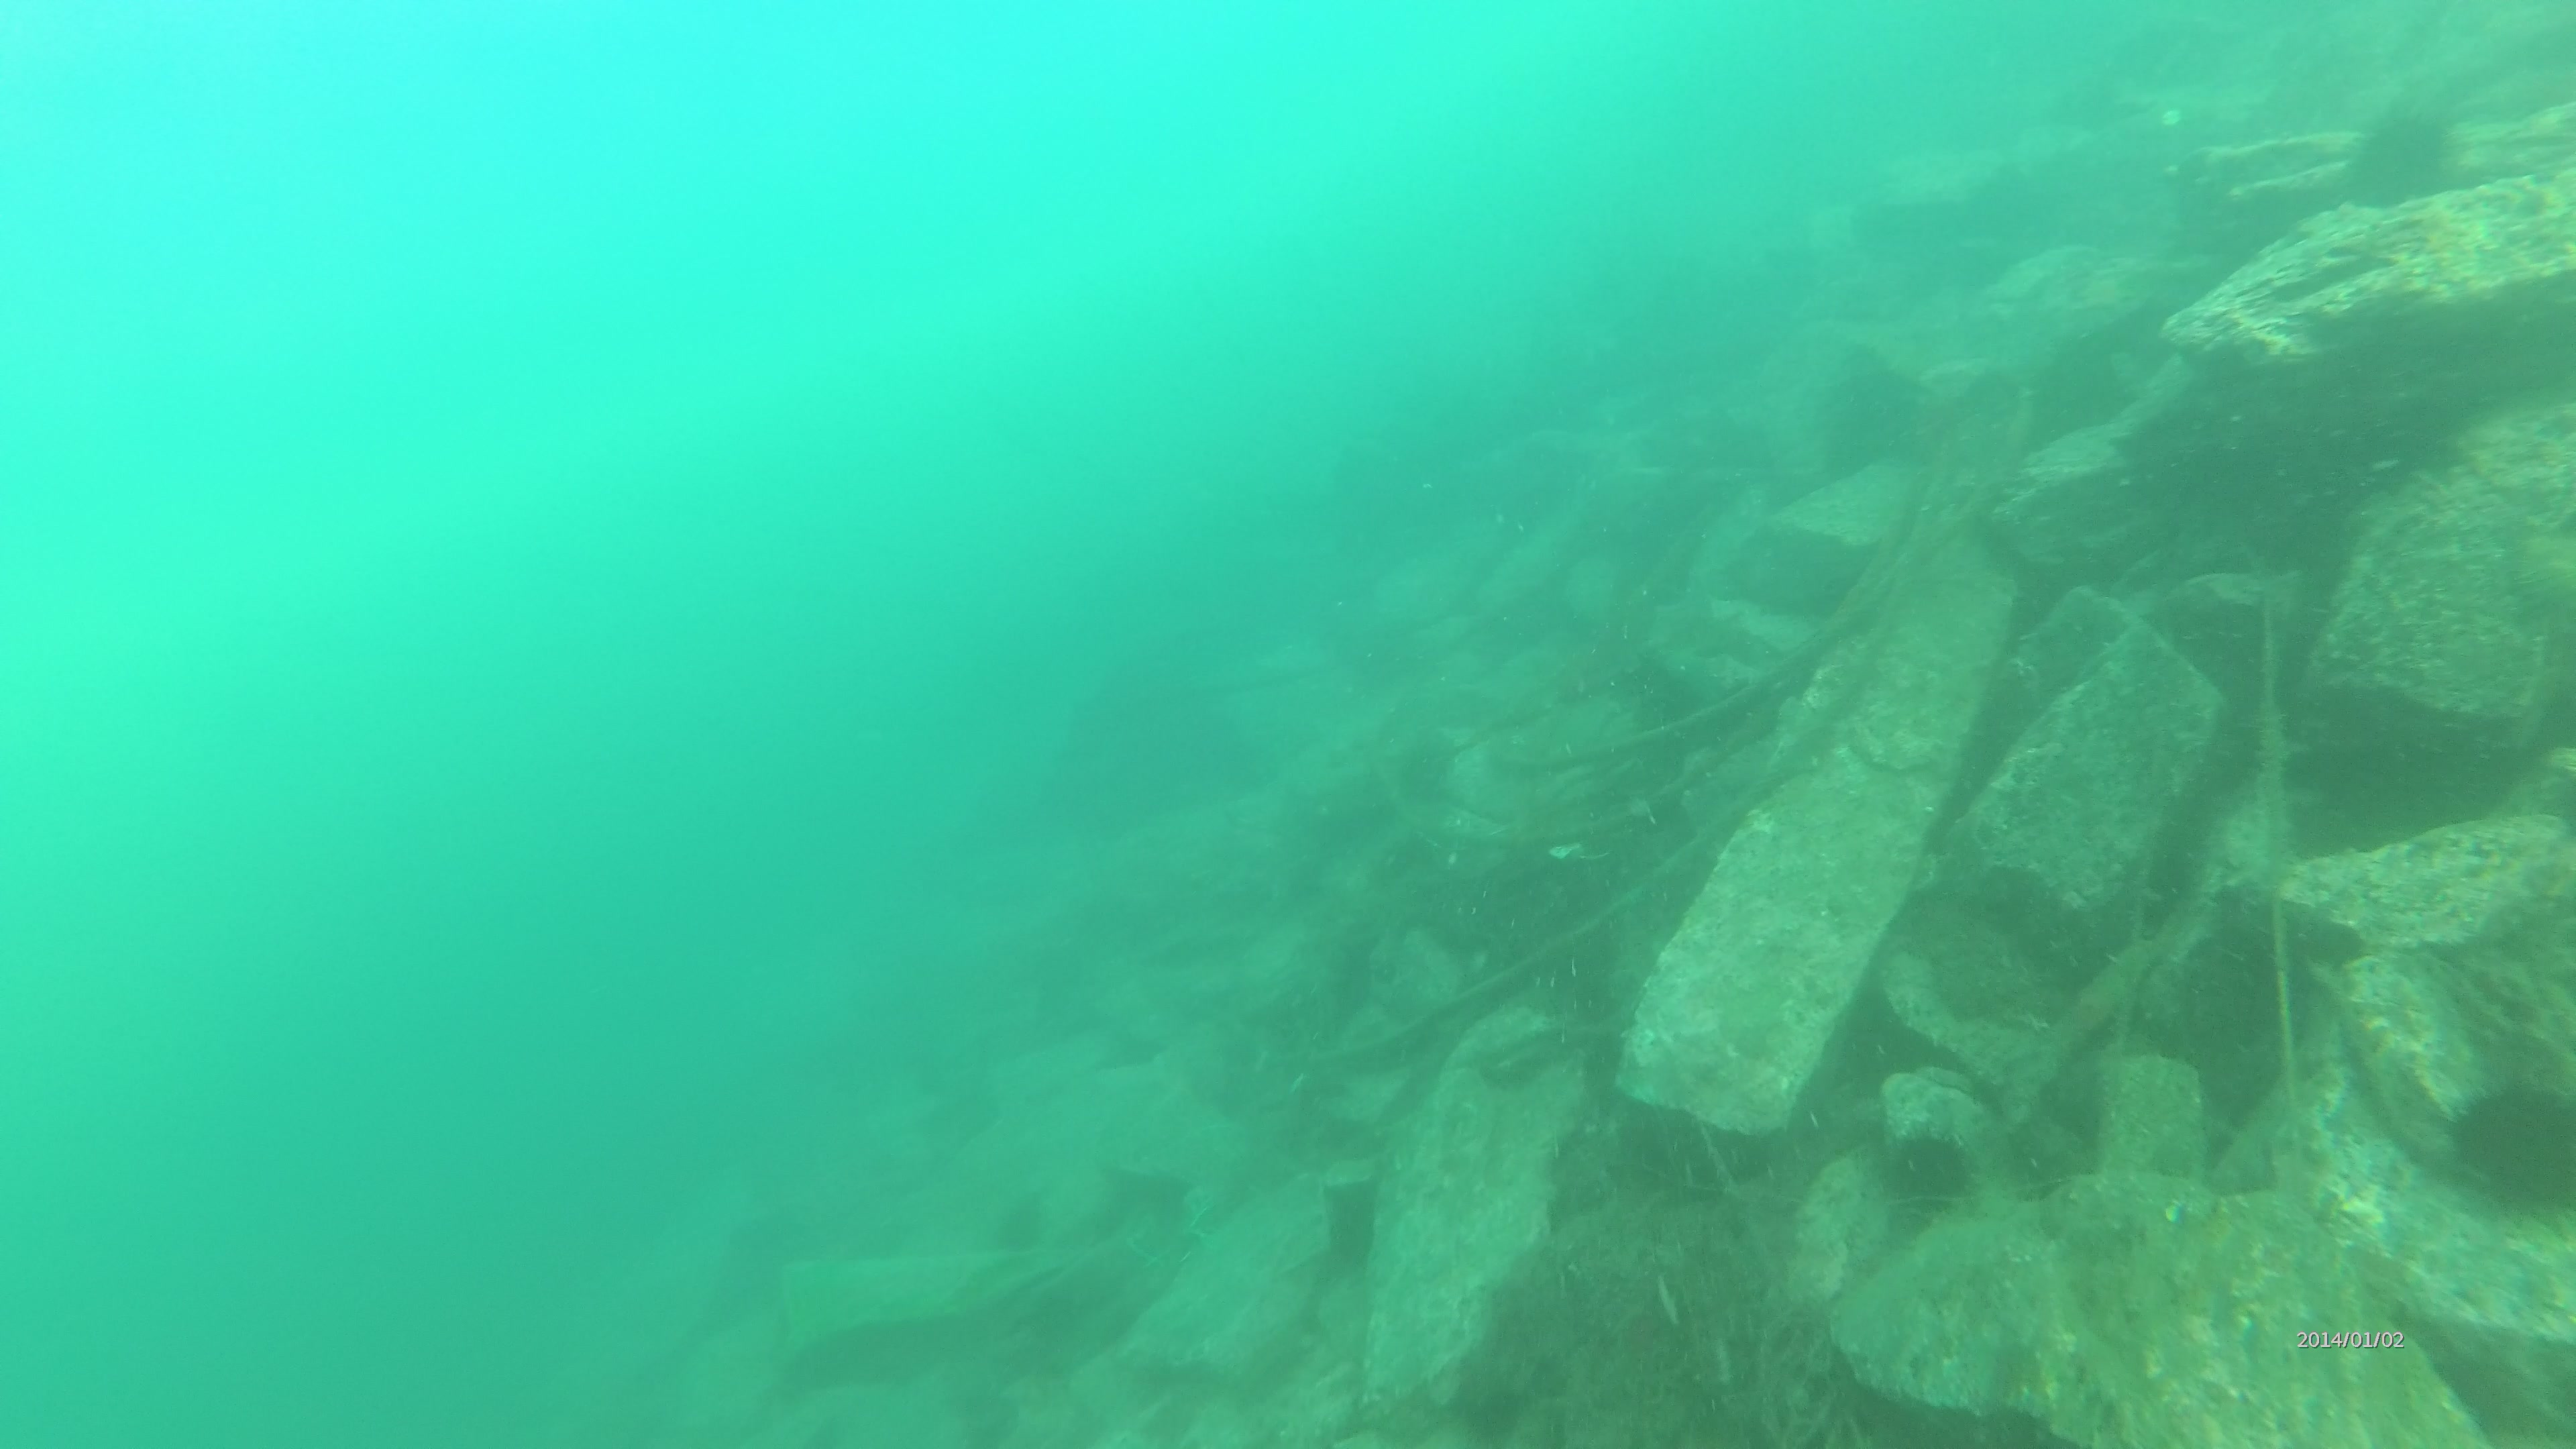echinus: (2341, 106, 2457, 219)
holothurian: (1982, 936, 2166, 1111)
